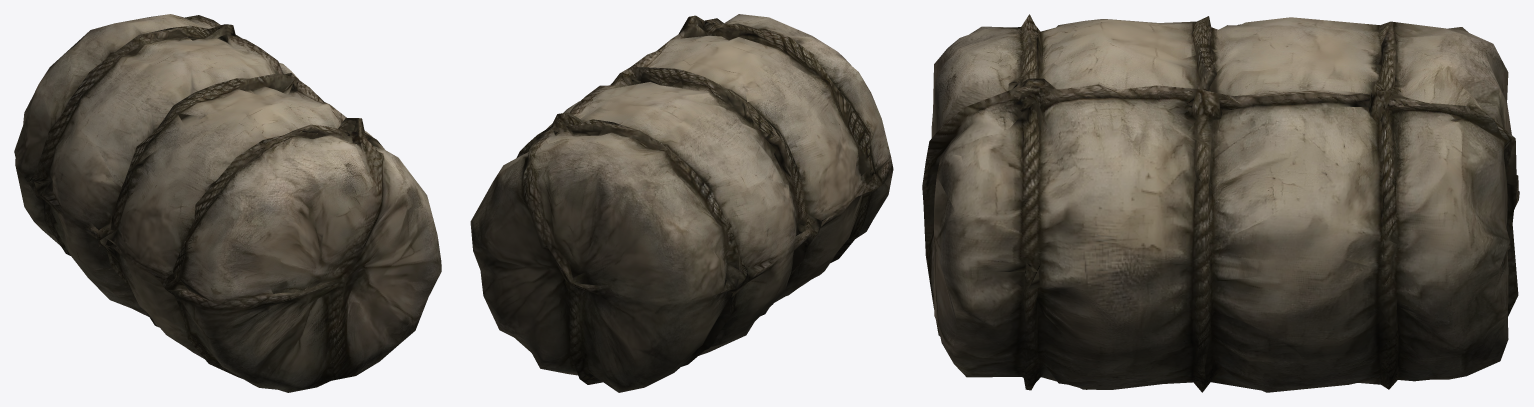
Rendered from cargo_bundle_roped.glb.
3 views of the same model, side by side, from view 1: azimuth 30°, elevation 25°; view 2: azimuth 150°, elevation 25°; view 3: azimuth 270°, elevation 25° (orthographic). The views are drawn at different scales.
Parts seen in each view (by area): view 1: tripo_node_e0df897c-b357-48a8-ba9e-e2adde71cfd9; view 2: tripo_node_e0df897c-b357-48a8-ba9e-e2adde71cfd9; view 3: tripo_node_e0df897c-b357-48a8-ba9e-e2adde71cfd9.
Part boxes in pixels (x1,y1,x2,y2): tripo_node_e0df897c-b357-48a8-ba9e-e2adde71cfd9: [14, 14, 441, 392]; tripo_node_e0df897c-b357-48a8-ba9e-e2adde71cfd9: [470, 14, 893, 392]; tripo_node_e0df897c-b357-48a8-ba9e-e2adde71cfd9: [922, 14, 1519, 392].
Bounding box in the file's own units: 0.6752 × 0.6316 × 1.
Materials: 1 (1 with a texture image).
